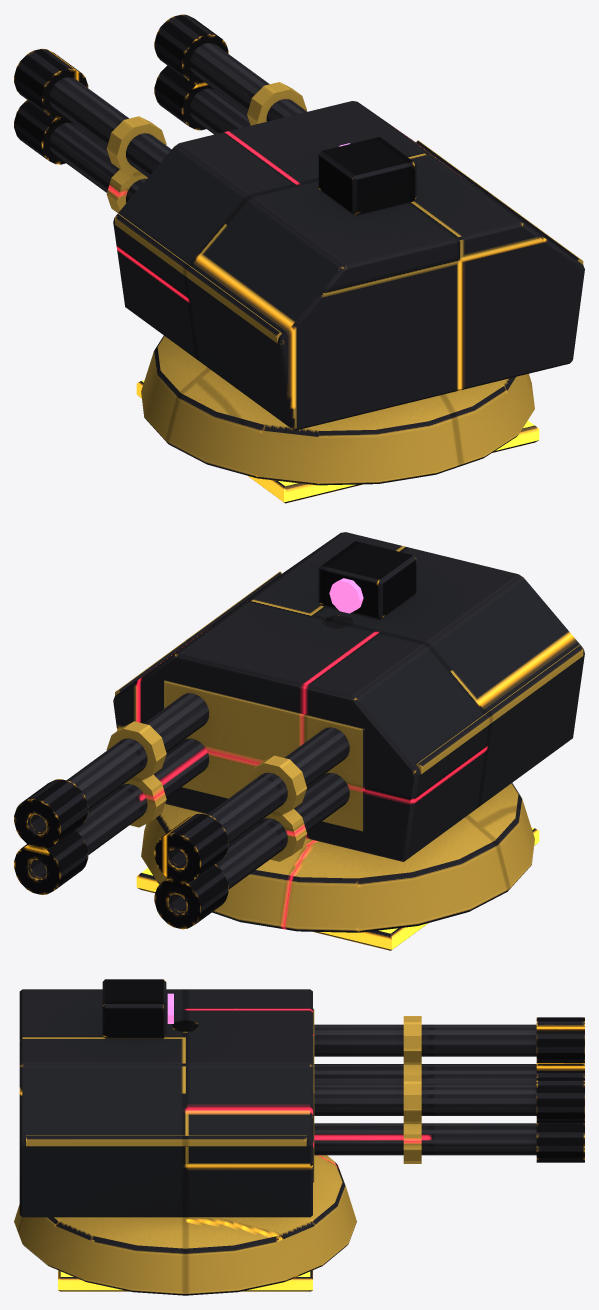
File: torreta_auto_t4.fbx
The picture shows the model from 3 angles, top to bottom: view 1: azimuth 30°, elevation 25°; view 2: azimuth 150°, elevation 25°; view 3: azimuth 270°, elevation 25°; orthographic projection. The views are drawn at different scales.
Parts seen in each view (by area): view 1: torreta_auto_t4_cabeza, torreta_auto_t4.001; view 2: torreta_auto_t4_cabeza, torreta_auto_t4.001, torreta_auto_t4_cabeza_neon2; view 3: torreta_auto_t4_cabeza, torreta_auto_t4.001.
Part boxes in pixels (bbox=[...]): torreta_auto_t4_cabeza: bbox=[14, 14, 584, 430]; torreta_auto_t4.001: bbox=[136, 335, 539, 503]; torreta_auto_t4_cabeza: bbox=[14, 532, 584, 929]; torreta_auto_t4.001: bbox=[136, 783, 539, 950]; torreta_auto_t4_cabeza_neon2: bbox=[329, 578, 363, 613]; torreta_auto_t4_cabeza: bbox=[19, 979, 584, 1217]; torreta_auto_t4.001: bbox=[14, 1155, 356, 1295].
Size of the model in its own units: 2.69 by 2.2 by 4.47.
